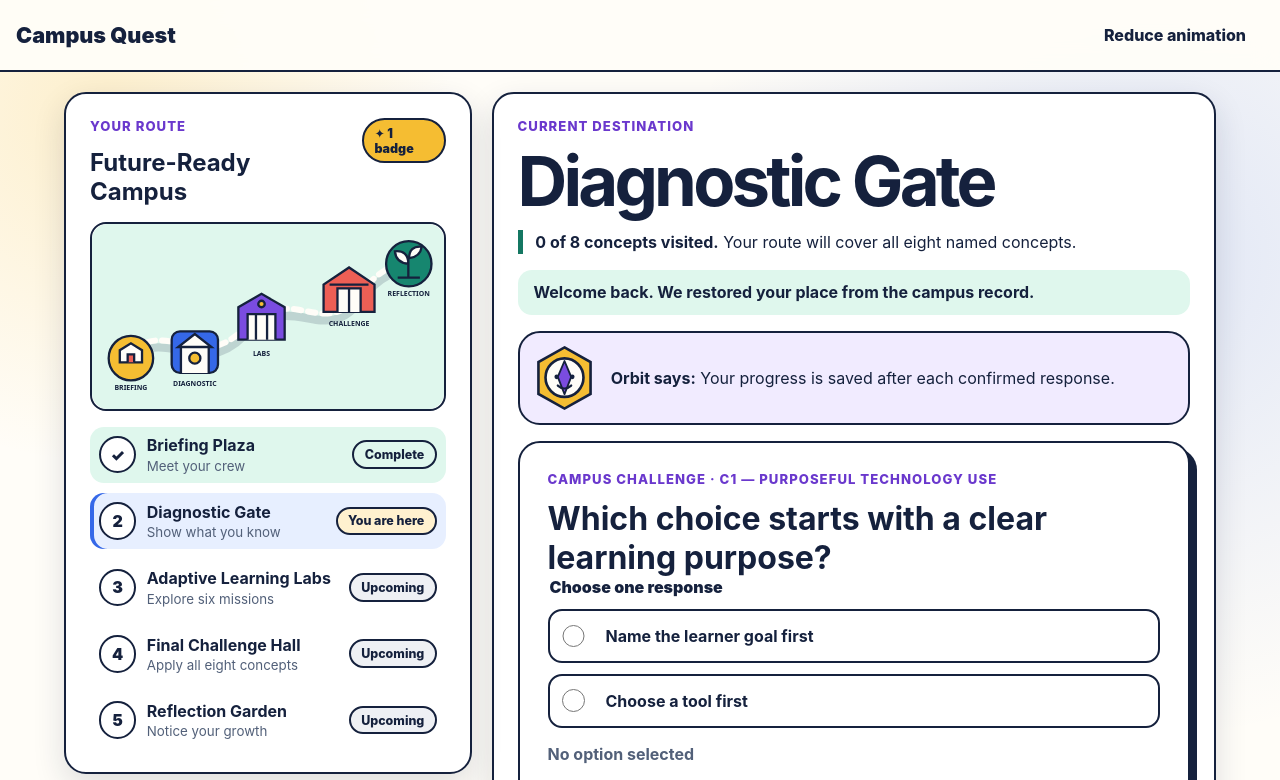
Test case: keeps an in-progress answer selected during background reconciliation
The width and height of the screenshot is (1280, 780).
Expected: the heading "Diagnostic Gate" is shown, x1=518 y1=139 x2=994 y2=223
Click the radio button labelled "Name the learner goal first" at (574, 636), box x1=562 y1=625 x2=585 y2=647
(page scrolled)
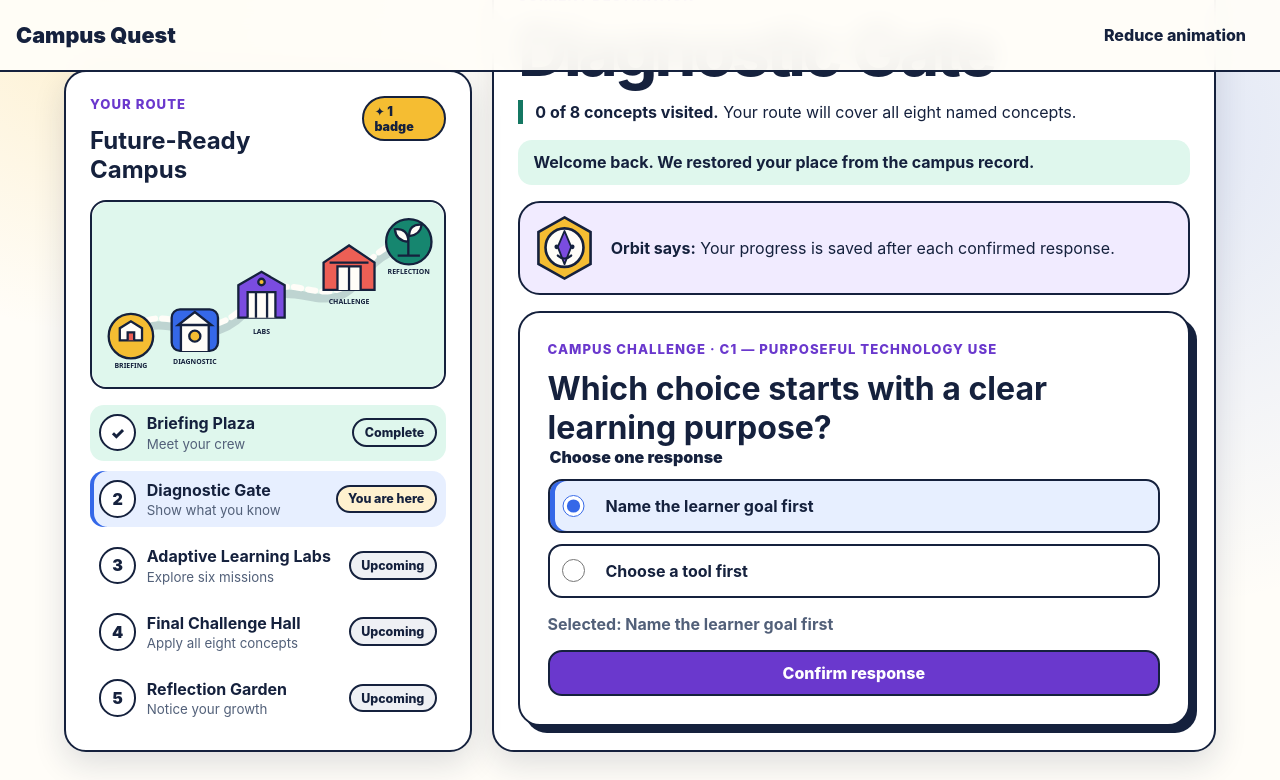
Expected: the radio button labelled "Name the learner goal first" is checked, x1=562 y1=495 x2=585 y2=517
Expected: the button "Confirm response" is enabled, x1=548 y1=650 x2=1160 y2=696
